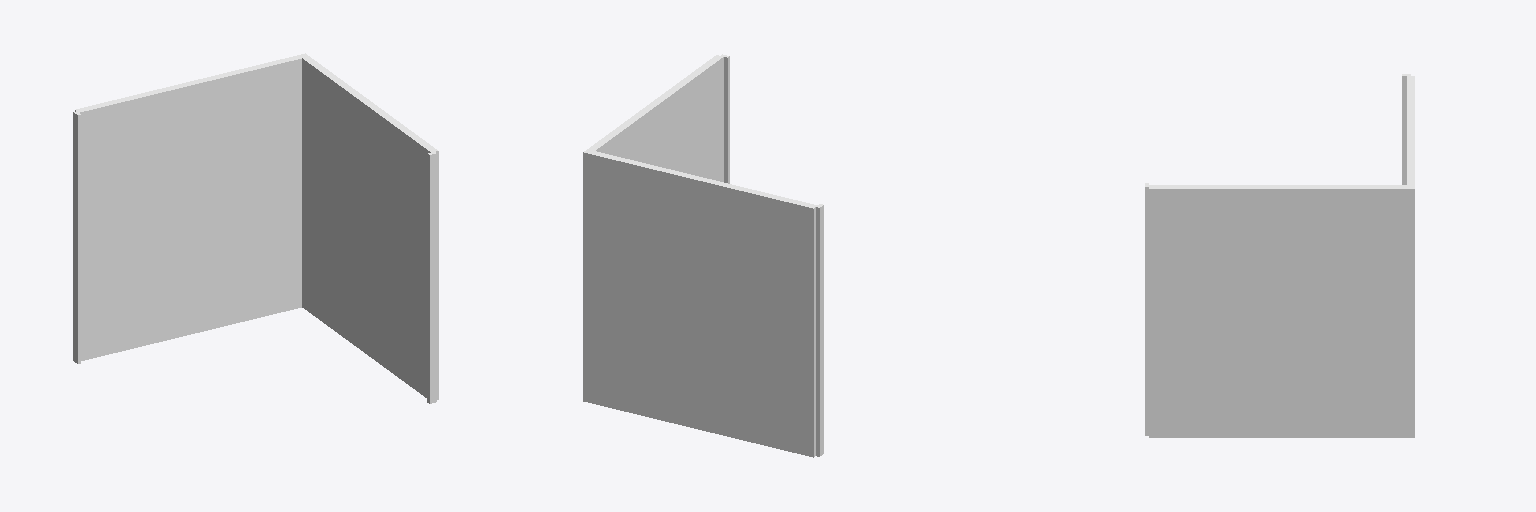
Rendered from modern_glass_wall_m_corner.obj.
3 renders of one model, left to right at view 1: azimuth 30°, elevation 25°; view 2: azimuth 150°, elevation 25°; view 3: azimuth 270°, elevation 25°, orthographic.
Size of the model in its own units: 63 by 64 by 63.